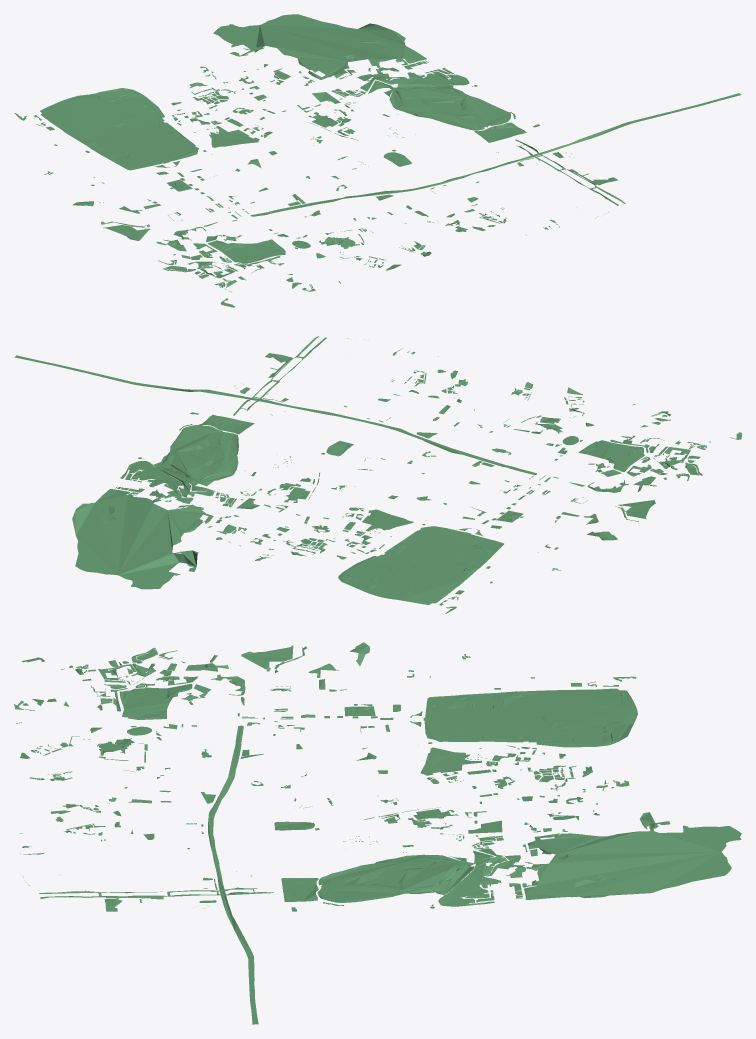
The model's file is green.glb.
The picture shows the model from 3 angles, top to bottom: view 1: azimuth 30°, elevation 25°; view 2: azimuth 150°, elevation 25°; view 3: azimuth 270°, elevation 25°; orthographic projection. The views are drawn at different scales.
Parts seen in each view (by area): view 1: green; view 2: green; view 3: green.
Boxes of the visible parts, x1=… form: green: x1=14, y1=14, x2=741, y2=307; green: x1=14, y1=336, x2=741, y2=613; green: x1=14, y1=642, x2=741, y2=1024.
Size of the model in its own units: 3552 by 55.93 by 2939.
